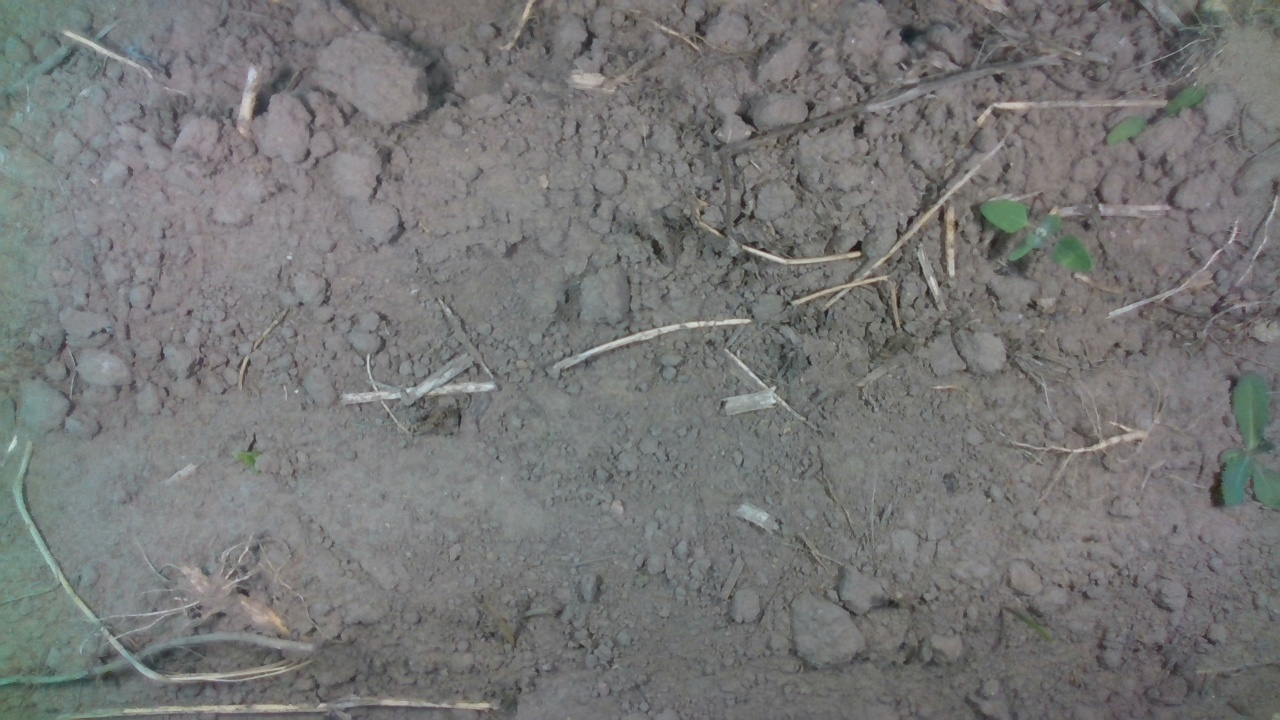weed: (976, 196, 1094, 276), (1103, 80, 1207, 147)
